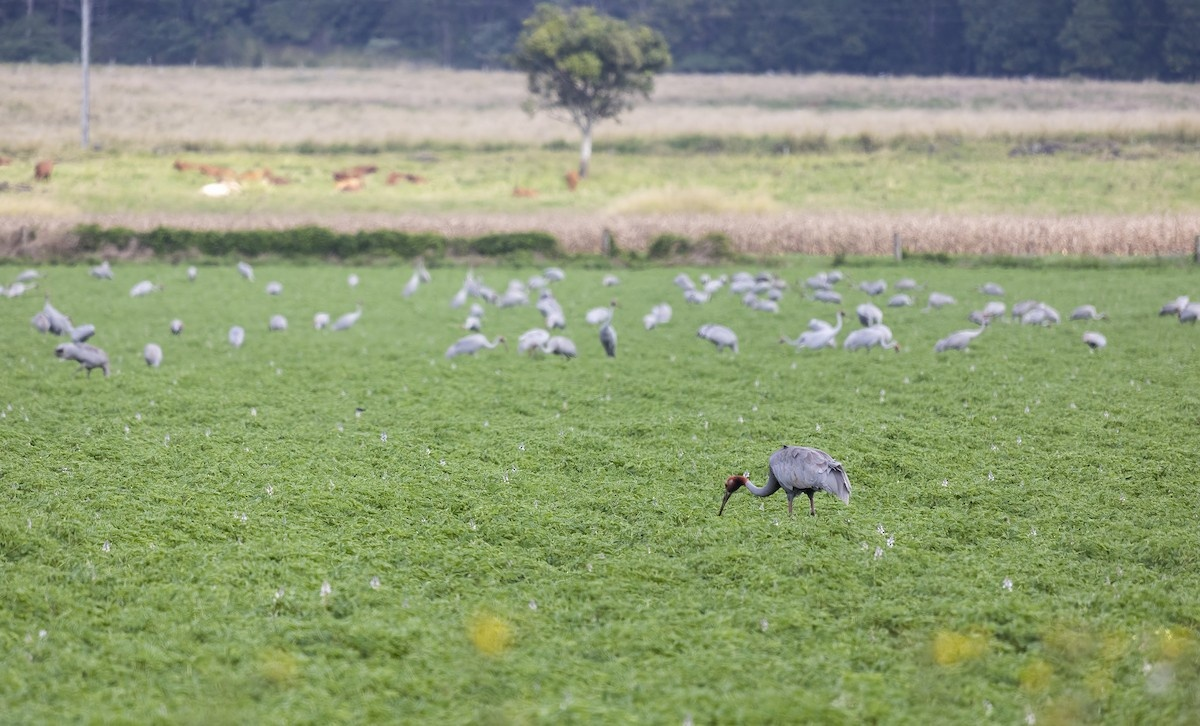crane: (715, 442, 855, 525)
